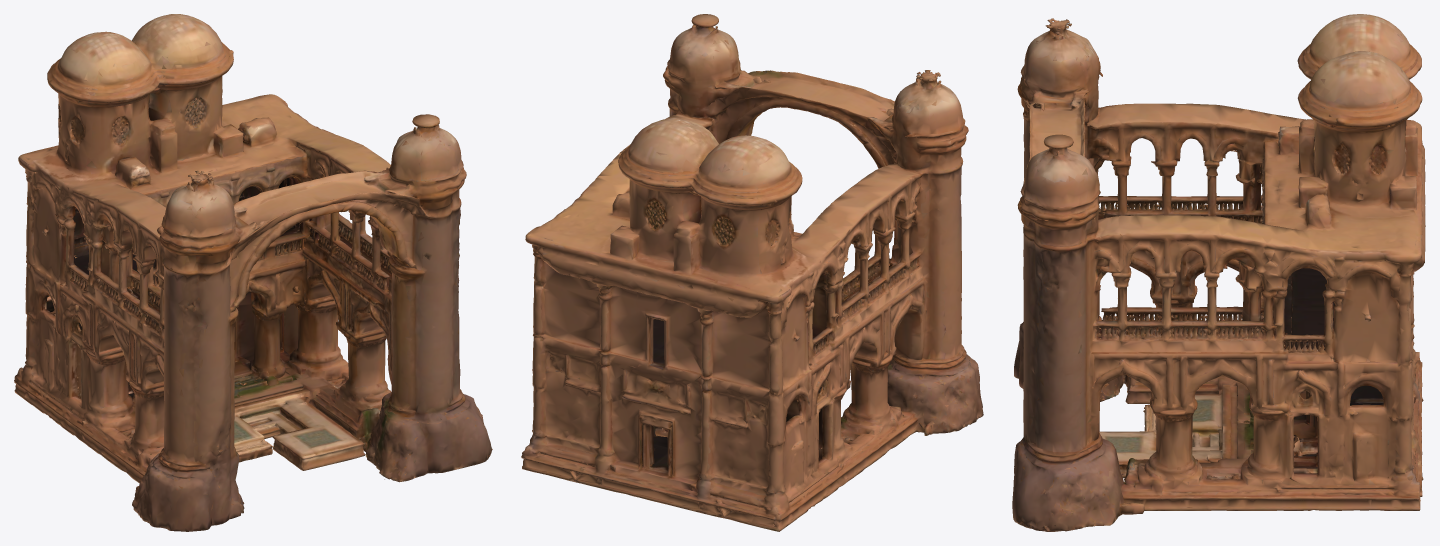
Rendered from A_sprawling_sandstone.glb.
3 renders of one model, left to right at view 1: azimuth 30°, elevation 25°; view 2: azimuth 150°, elevation 25°; view 3: azimuth 270°, elevation 25°, orthographic. The views are drawn at different scales.
Parts seen in each view (by area): view 1: A_sprawling_sandstone; view 2: A_sprawling_sandstone; view 3: A_sprawling_sandstone.
Part boxes in pixels (x1,y1,x2,y2): A_sprawling_sandstone: [14, 14, 492, 531]; A_sprawling_sandstone: [521, 14, 983, 531]; A_sprawling_sandstone: [1012, 14, 1425, 531].
Bounding box in the file's own units: 1.86 × 1.9 × 1.84.
Materials: 1 (1 with a texture image).
